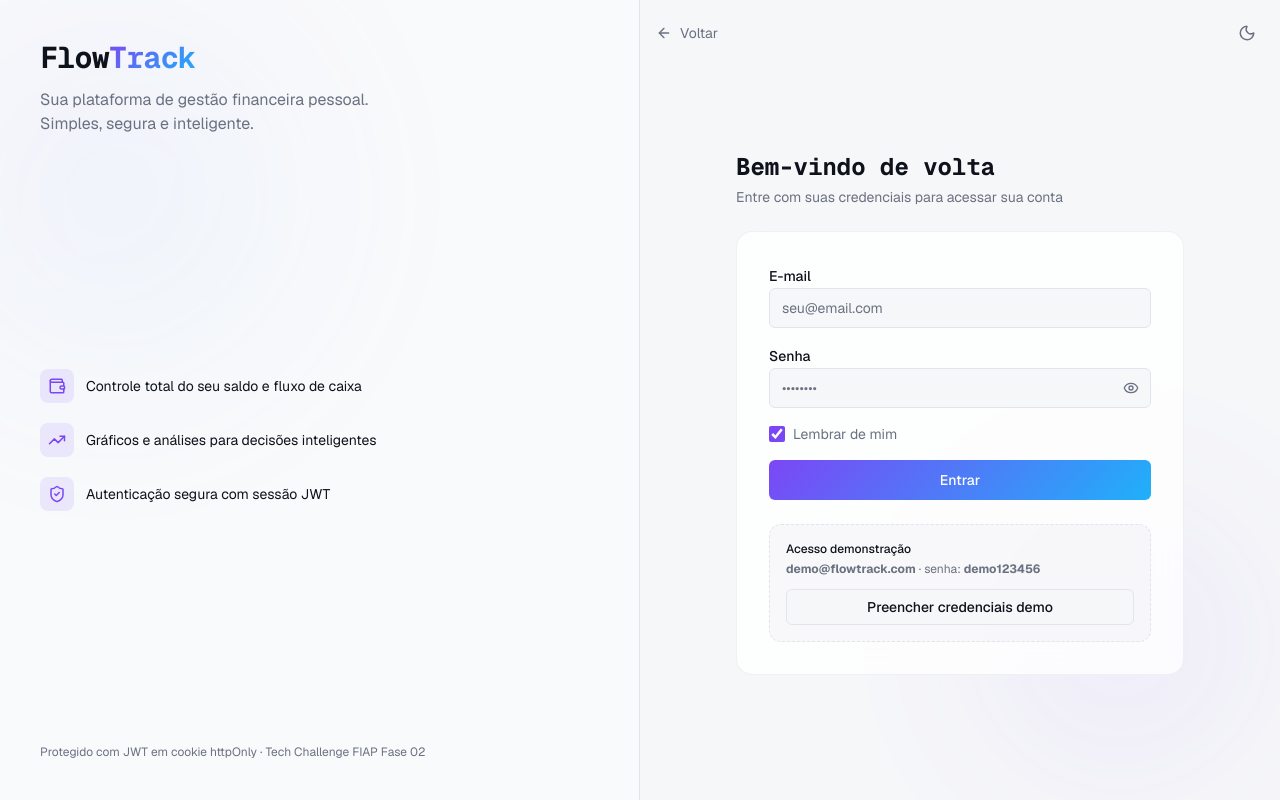
Test: LoginPage › shows validation when fields are empty
The image size is (1280, 800).
Click the button "Entrar".
click(960, 480)  # box [769,460,1151,500]
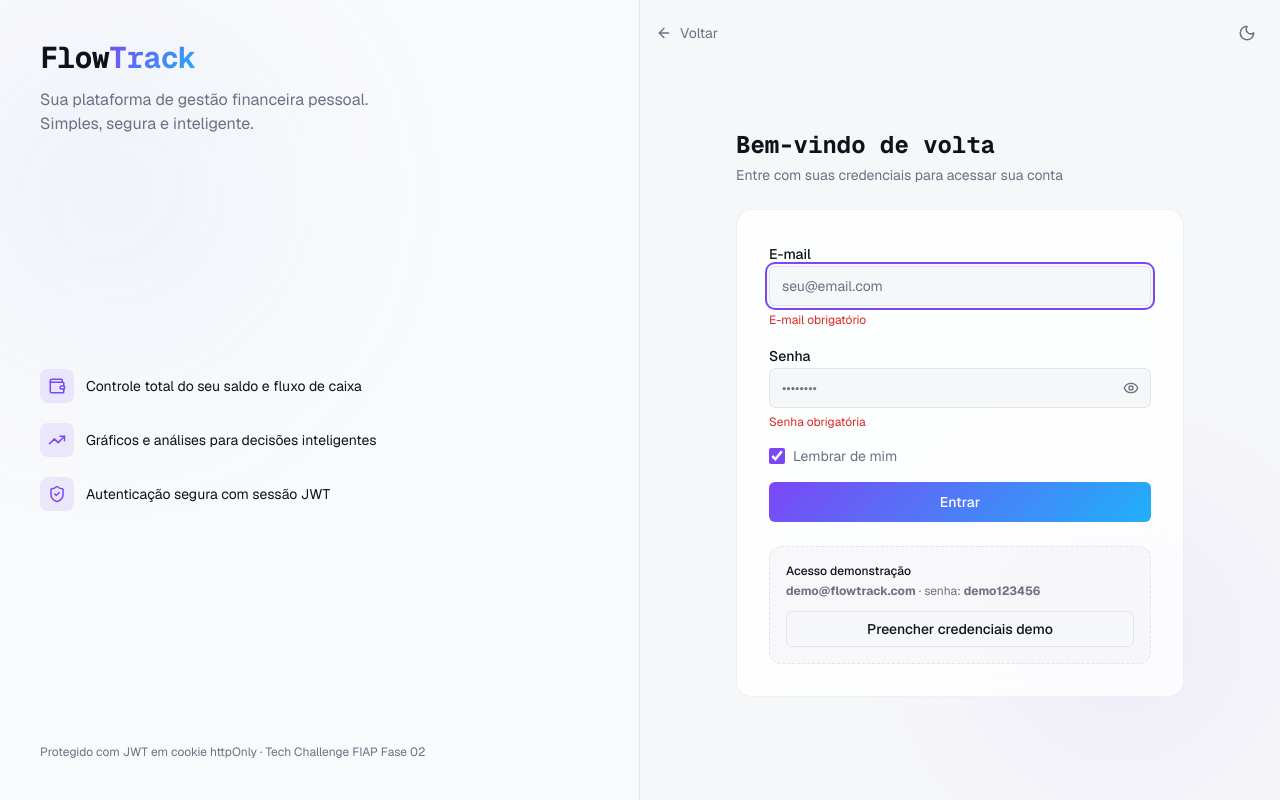
Expected: the text "E-mail obrigatório" is shown, [769,312,866,328]
